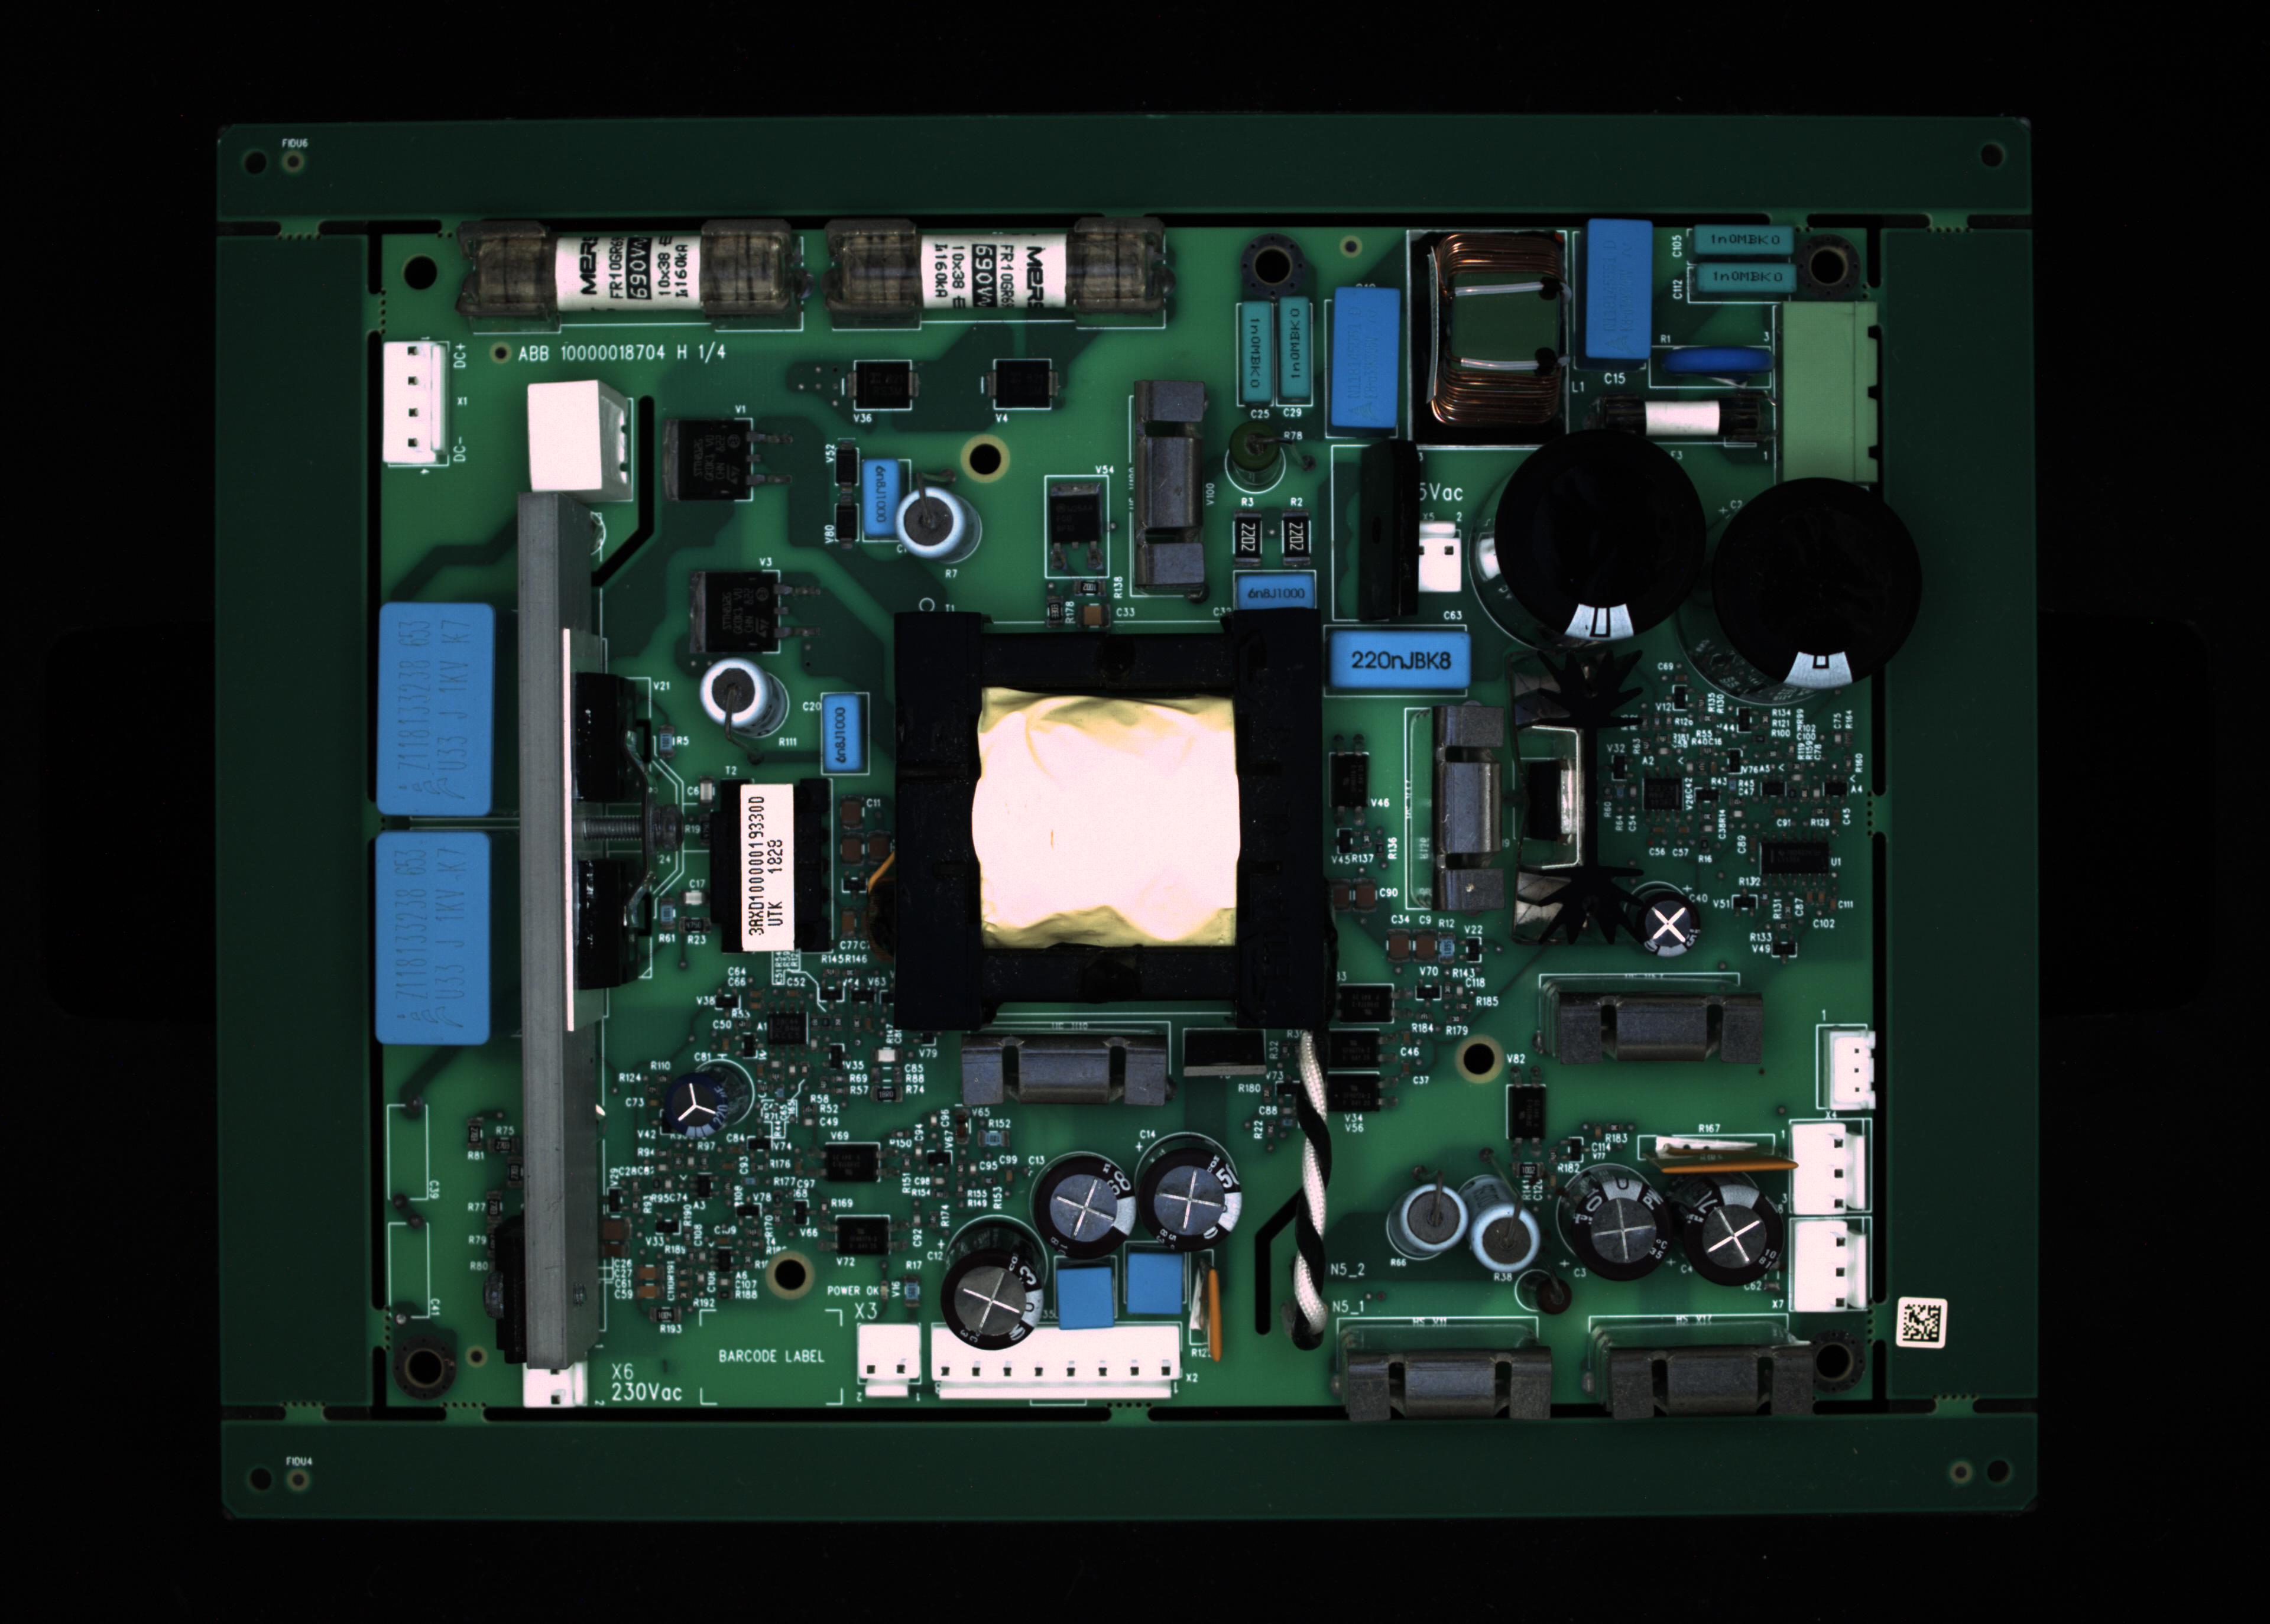10_p: (1648, 346, 1772, 394)
11_q: (1781, 299, 1880, 483)
12_r: (1591, 387, 1776, 455)
13_s: (383, 337, 448, 468)
14_t: (531, 380, 629, 492)
15_e: (855, 459, 907, 547)
16_k: (891, 464, 985, 569)
17_u: (1127, 385, 1206, 608)
18_v: (1238, 573, 1319, 610)
19_w: (1333, 629, 1472, 689)
1_a: (455, 216, 807, 325)
20_f: (1393, 517, 1470, 599)
21_g: (1491, 429, 1709, 645)
22_g: (1704, 482, 1929, 692)
23_h: (380, 603, 496, 810)
24_h: (375, 830, 489, 1051)
25_f: (519, 1360, 593, 1411)
26_f: (851, 1323, 927, 1403)
27_x: (925, 1323, 1185, 1415)
28_i: (1132, 1137, 1240, 1248)
29_i: (1027, 1153, 1134, 1274)
2_a: (819, 216, 1175, 330)
30_i: (941, 1216, 1055, 1339)
31_j: (1050, 1267, 1120, 1339)
32_j: (1115, 1237, 1197, 1329)
33_e: (826, 698, 863, 773)
34_k: (1398, 1181, 1465, 1253)
35_k: (1470, 1206, 1546, 1276)
36_i: (1556, 1164, 1672, 1295)
37_i: (1663, 1160, 1786, 1290)
38_l: (1342, 1350, 1560, 1424)
39_l: (1591, 1346, 1823, 1418)
3_b: (1240, 295, 1270, 401)
40_l: (1549, 991, 1764, 1063)
41_y: (1435, 678, 1505, 916)
42_z: (1825, 1026, 1876, 1111)
43_m: (1792, 1114, 1864, 1216)
44_m: (1788, 1225, 1876, 1311)
45_i: (679, 1065, 756, 1142)
46_n: (1338, 982, 1396, 1026)
47_n: (823, 1141, 883, 1186)
48_n: (833, 1214, 891, 1255)
49_aa: (761, 1011, 814, 1056)
4_b: (1280, 299, 1317, 410)
50_n: (1321, 1030, 1391, 1070)
51_n: (1317, 1070, 1384, 1120)
52_ab: (1329, 750, 1370, 812)
53_ac: (1656, 1130, 1790, 1165)
54_ad: (1194, 1253, 1222, 1364)
55_l: (960, 1035, 1175, 1104)
56_ae: (1176, 1025, 1262, 1076)
57_af: (1509, 647, 1635, 951)
58_i: (1630, 884, 1706, 958)
59_o: (992, 360, 1050, 410)
5_c: (1331, 286, 1398, 427)
60_o: (851, 359, 916, 411)
6_6: (1405, 232, 1572, 452)
7_c: (1584, 218, 1653, 352)
8_d: (1692, 228, 1792, 260)
9_d: (1697, 262, 1793, 294)
